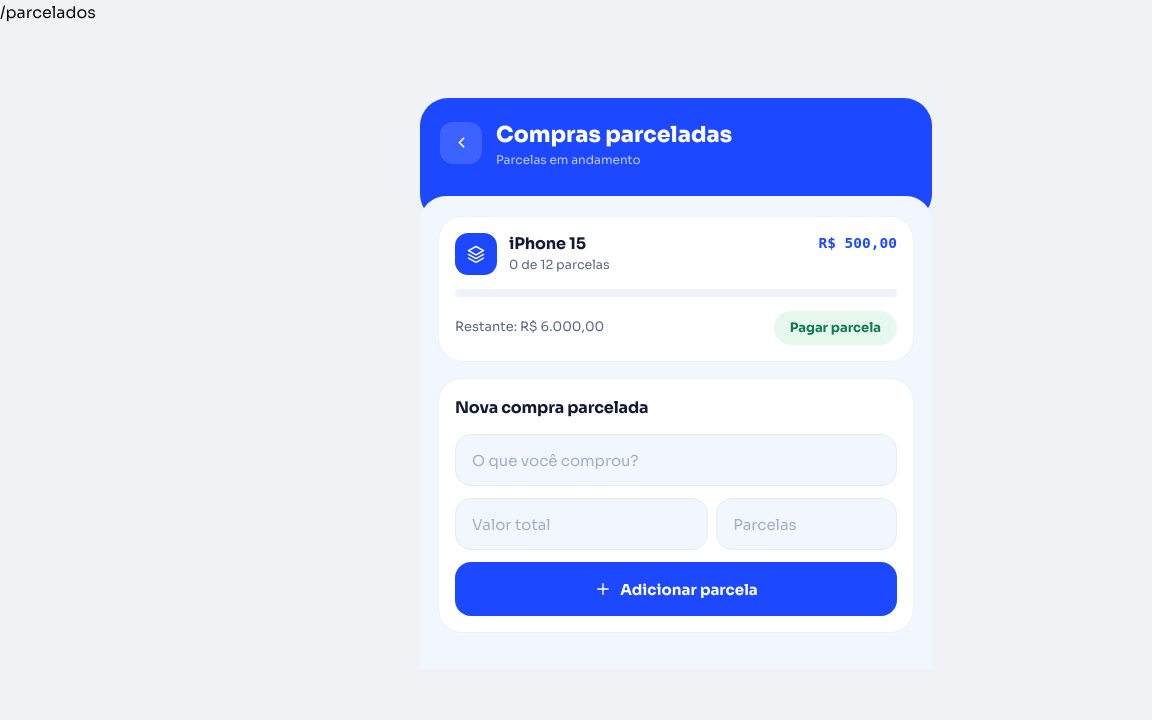
Parcelados — tecla Esc › Esc fecha a confirmação de remover sem remover (e ela é um diálogo)
Click the button "iPhone 15 0 de 12 parcelas R$ 500,00": (476, 254) [455,233,897,275]
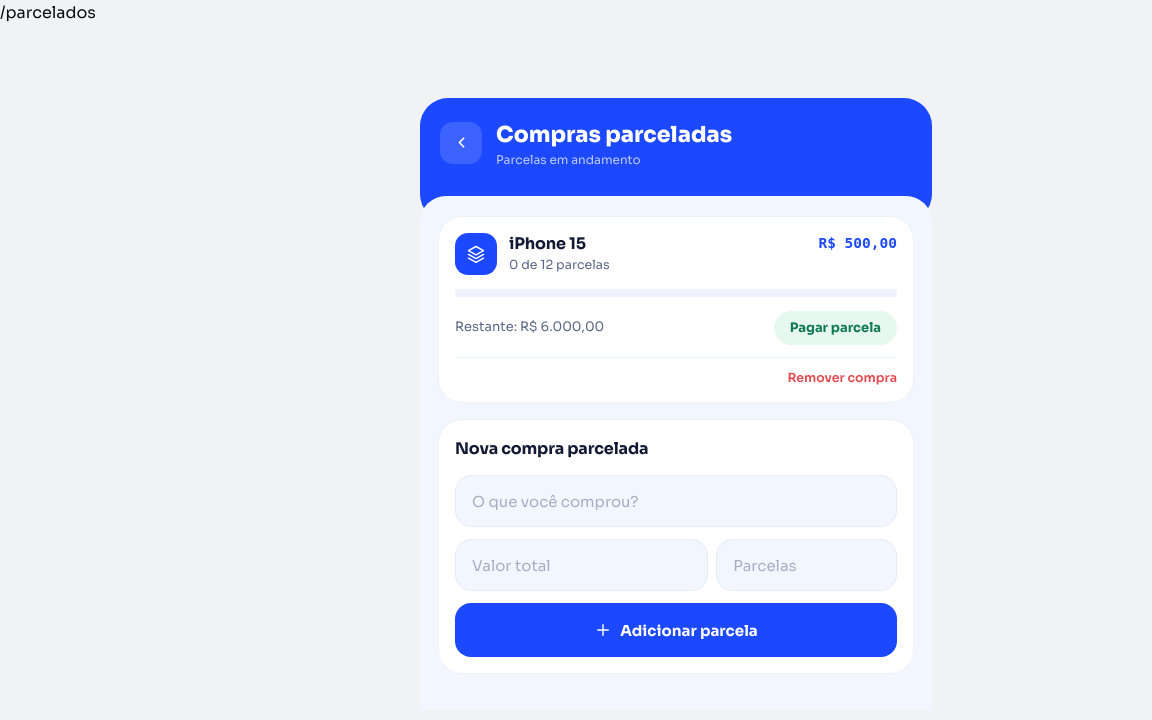
Click the button titled "Remover": (842, 378) [787,370,897,386]
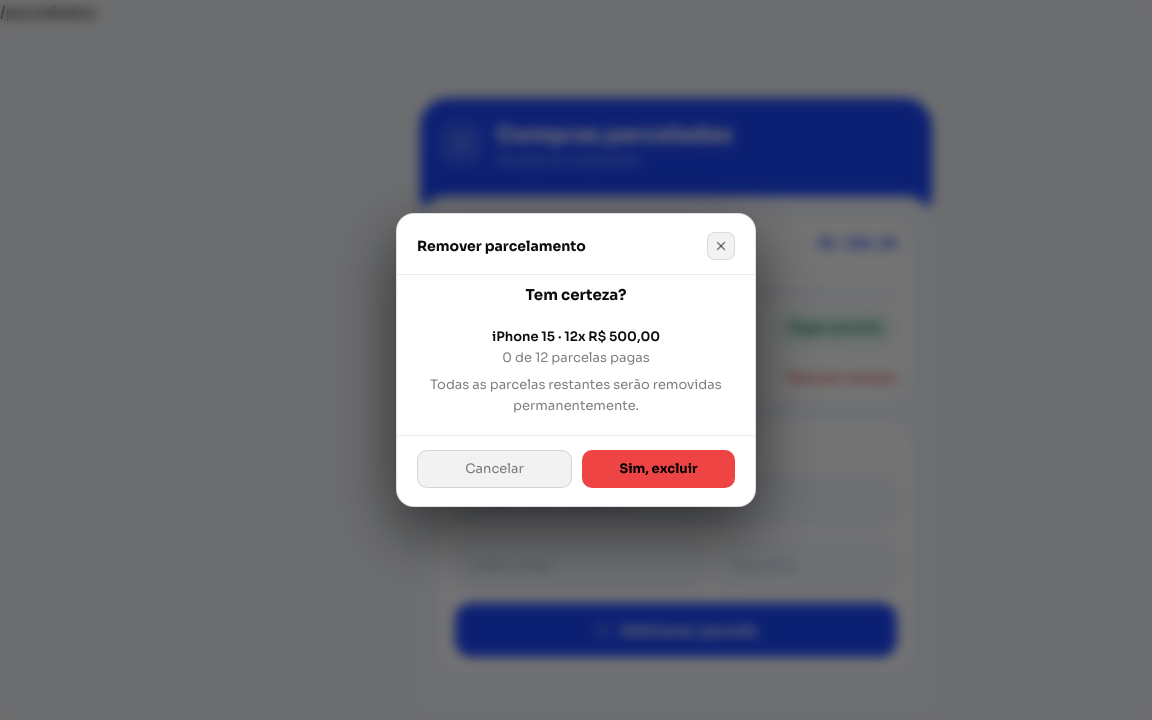
Press Escape
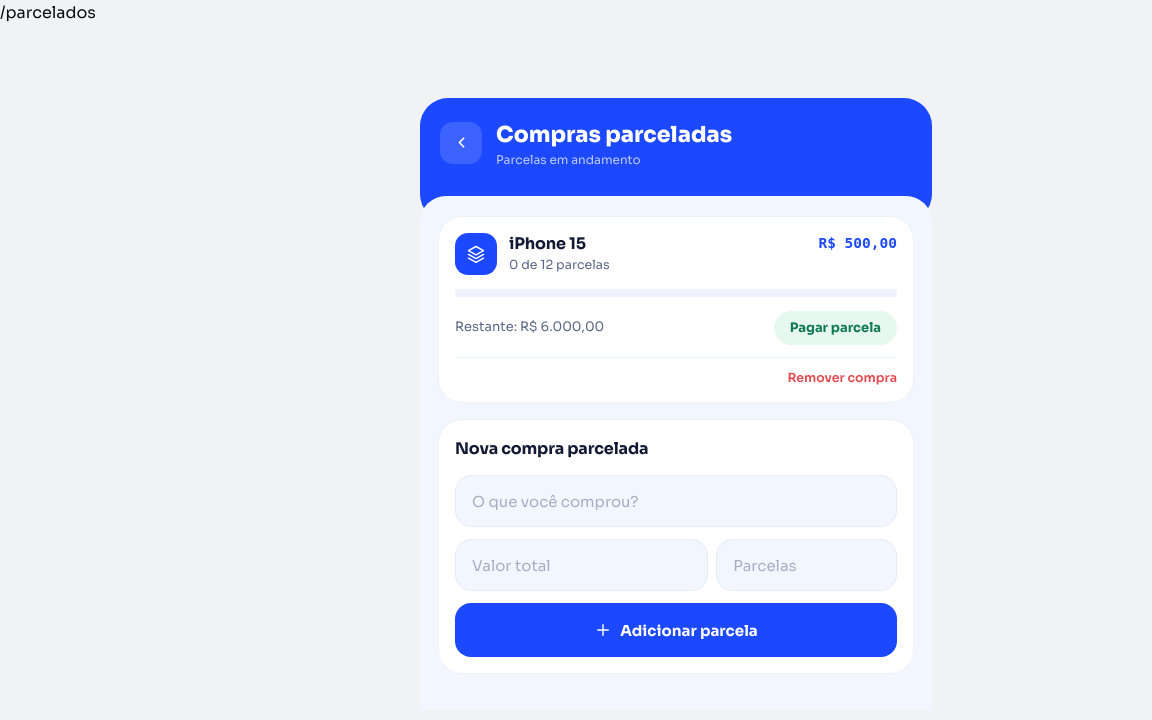
Now the text "Remover parcelamento" is gone
